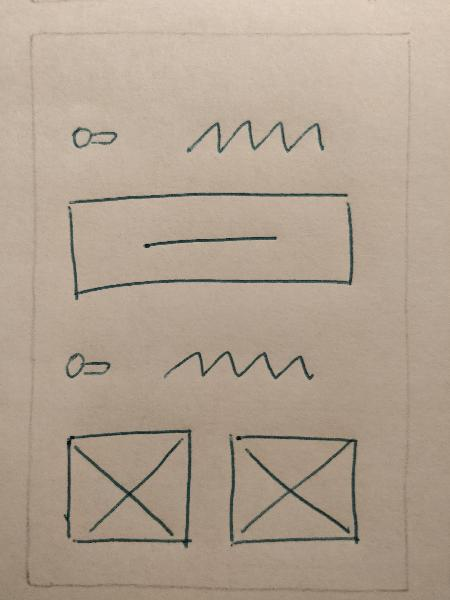button: (61, 188, 368, 304)
image: (213, 426, 375, 560), (60, 420, 200, 553)
switch: (60, 111, 135, 160), (52, 342, 121, 387)
text: (149, 341, 333, 393), (176, 110, 337, 160)
